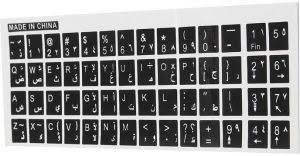keyboard: (4, 29, 300, 156), (295, 154, 300, 156)
